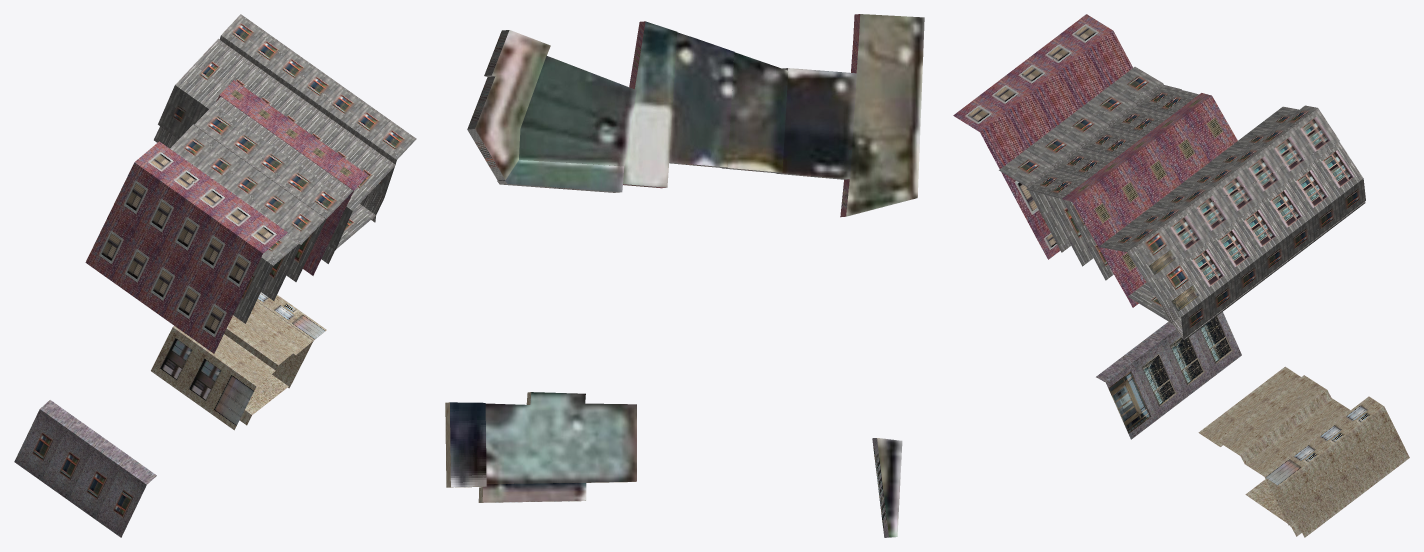
3 renders of one model, left to right at view 1: azimuth 30°, elevation 25°; view 2: azimuth 150°, elevation 25°; view 3: azimuth 270°, elevation 25°, orthographic. The views are drawn at different scales.
Size of the model in its own units: 42.45 by 45.94 by 43.37.
41 materials, 41 textured.
